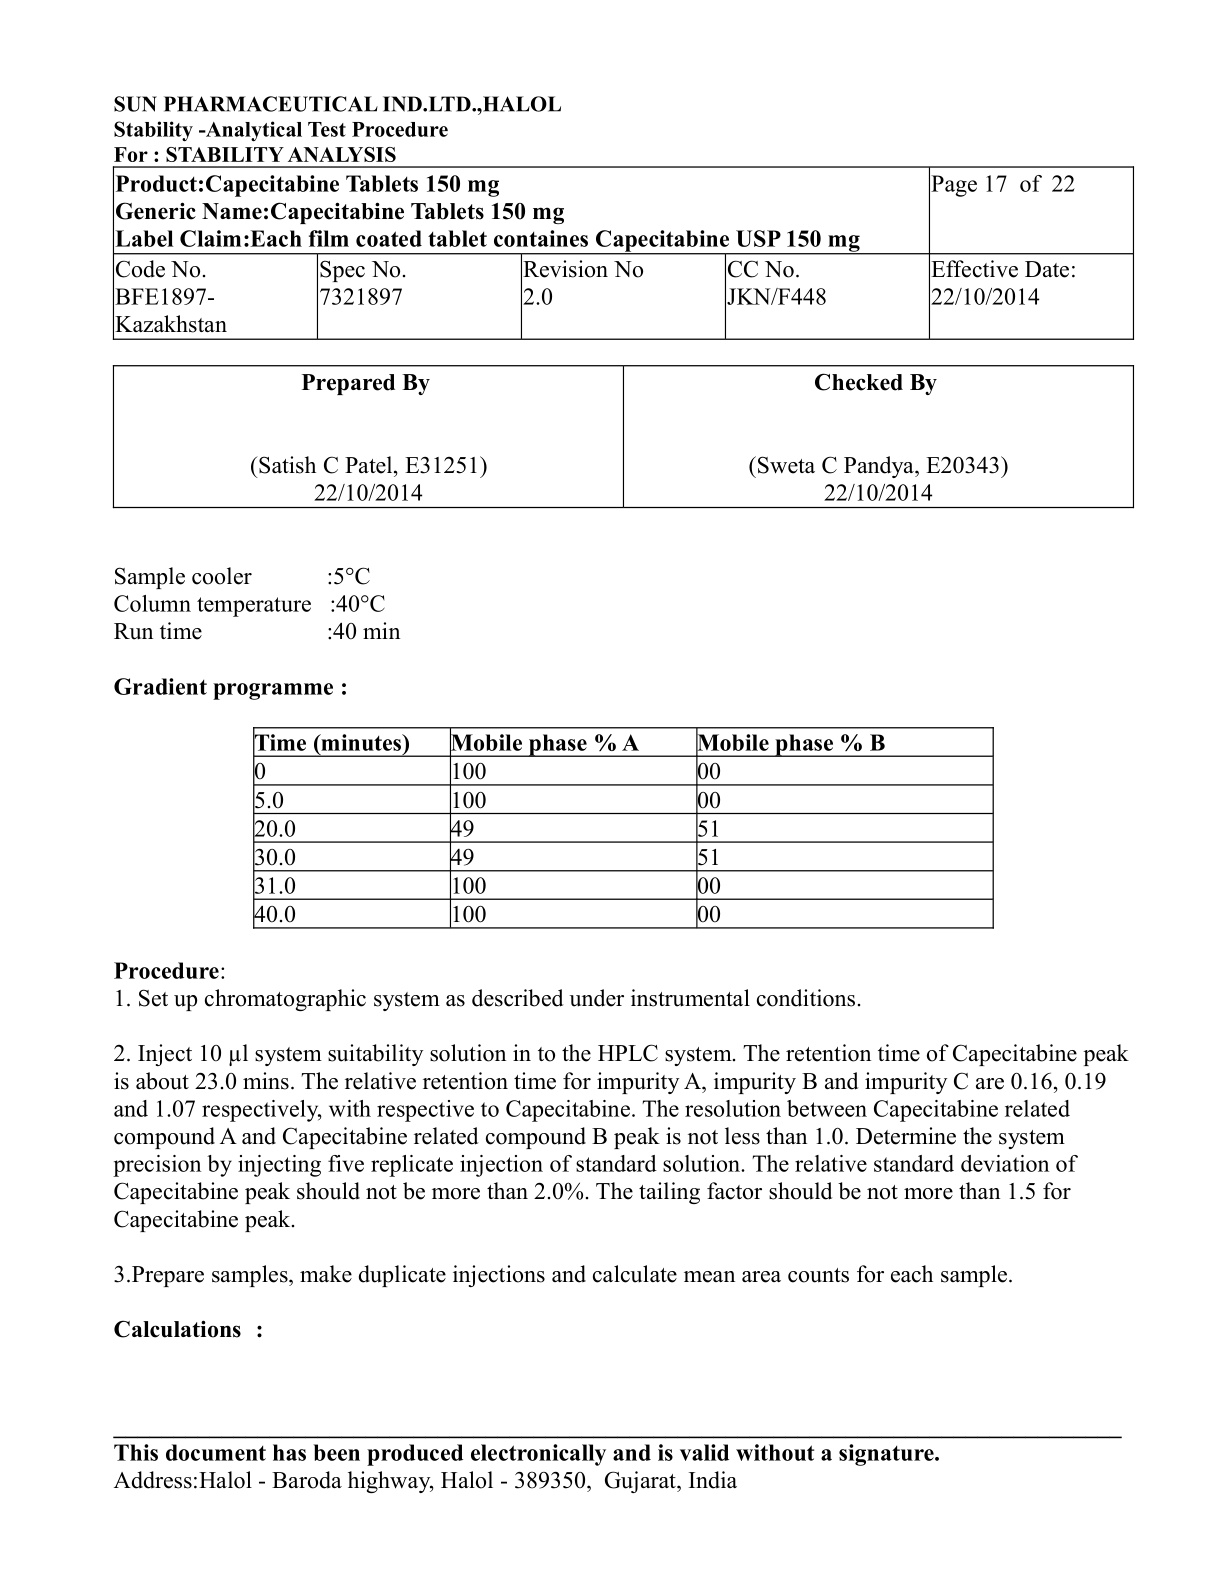full_lined: (252, 726, 995, 930), (111, 364, 1135, 509)
merged_cells: (112, 166, 1134, 341)
